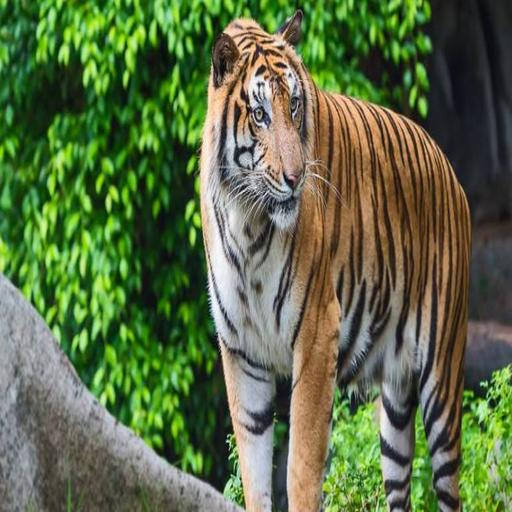Tiger: (193, 9, 481, 512)
